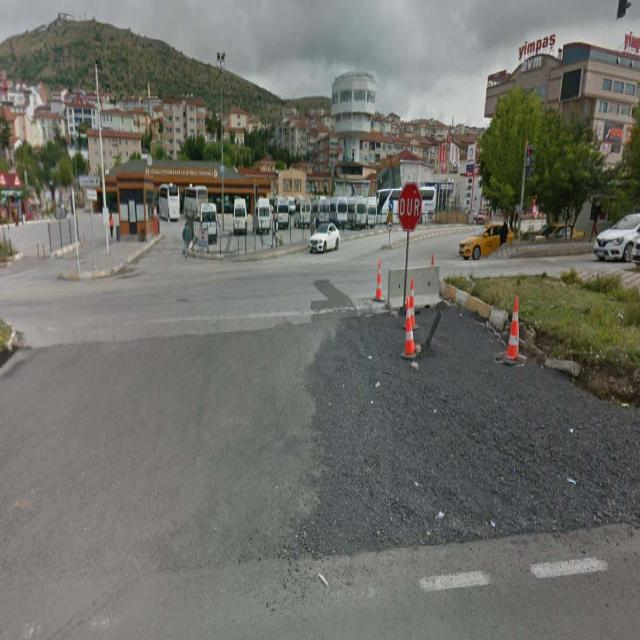dur: (398, 183, 420, 229)
